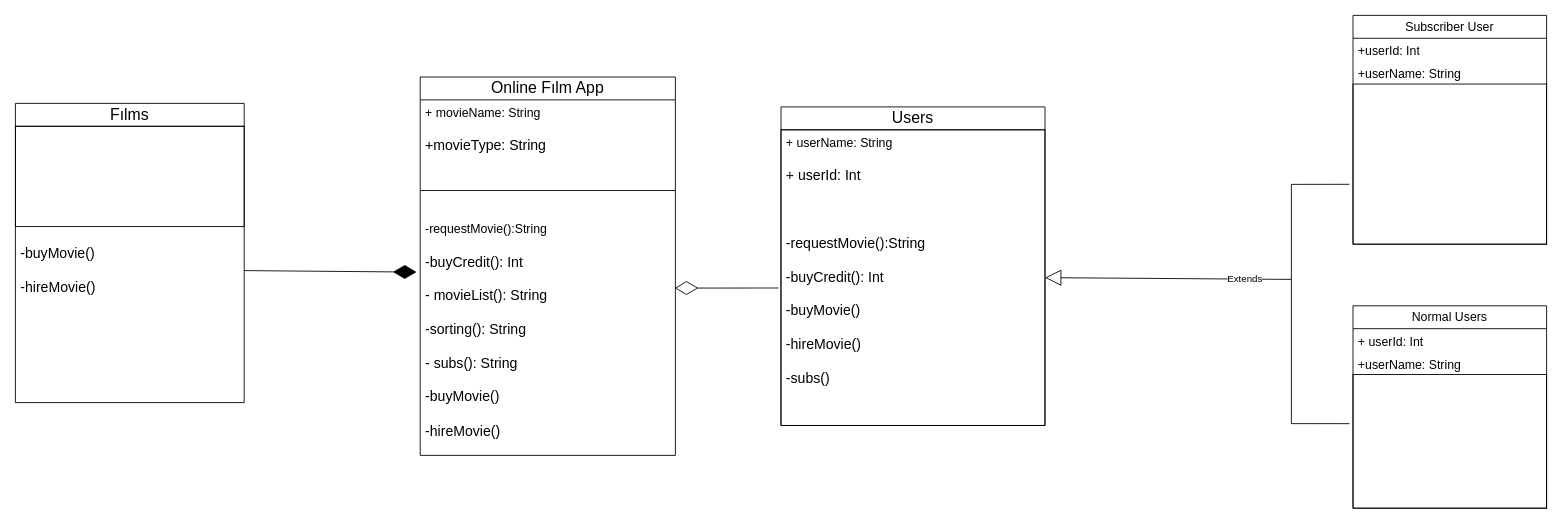
The diagram is 1562 pixels wide and 526 high, and some of its shapes have lost their labels. Here are the shapes that lost their labels. From the top down, the centre of each, then its label:
[129,176]: +fılmName: String +hireAmount: Double +buyAmount: Double
[1449,163]: -requestMovie():String -buyCredit(): Int -buyMovie() -hireMovie(deductFromAcc )
[1449,441]: -buyMovie () -requestMovie(): -buyCredit(): Int
